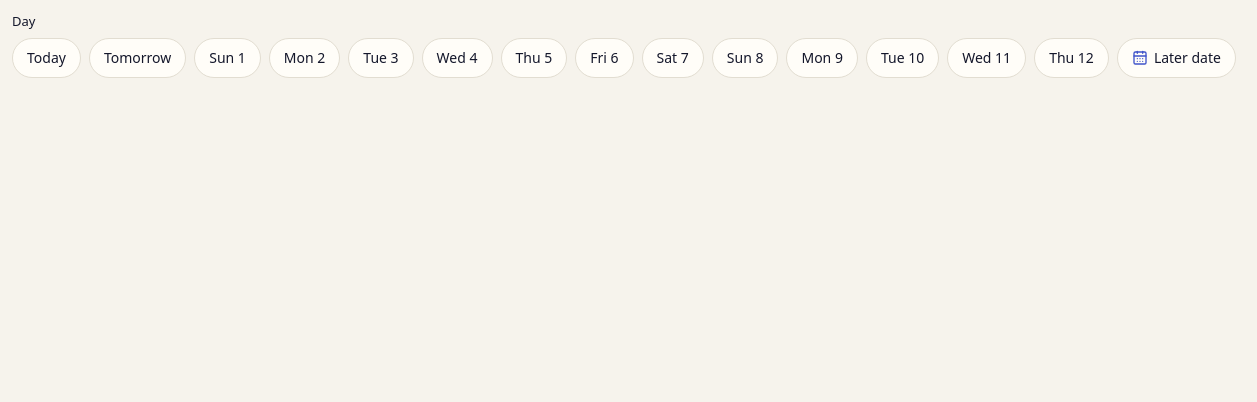
Test case: DayPicker › closes the calendar on Escape without letting the drawer see it
Click the button "Later date". click: (1176, 58)
box: [1117,38,1236,78]
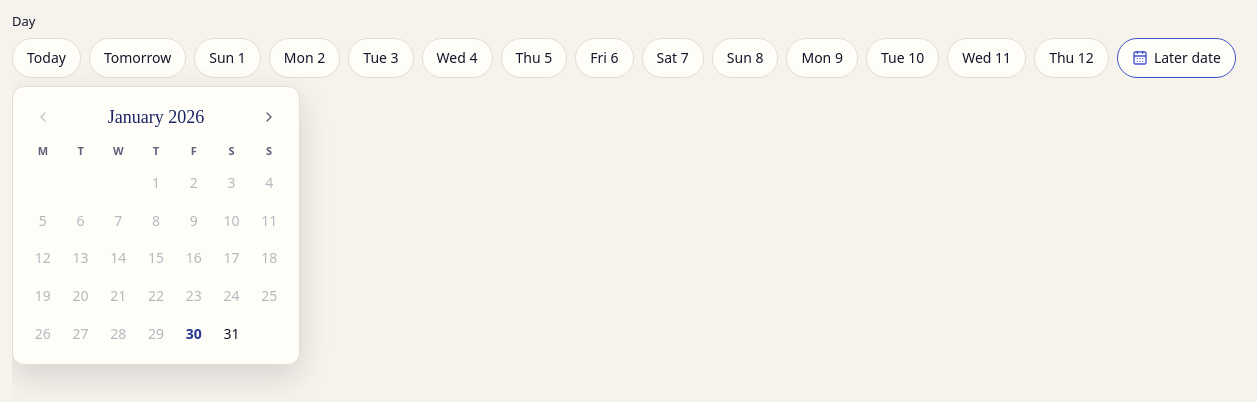
Press Escape in the button named "Next month", box [251,98,287,134]
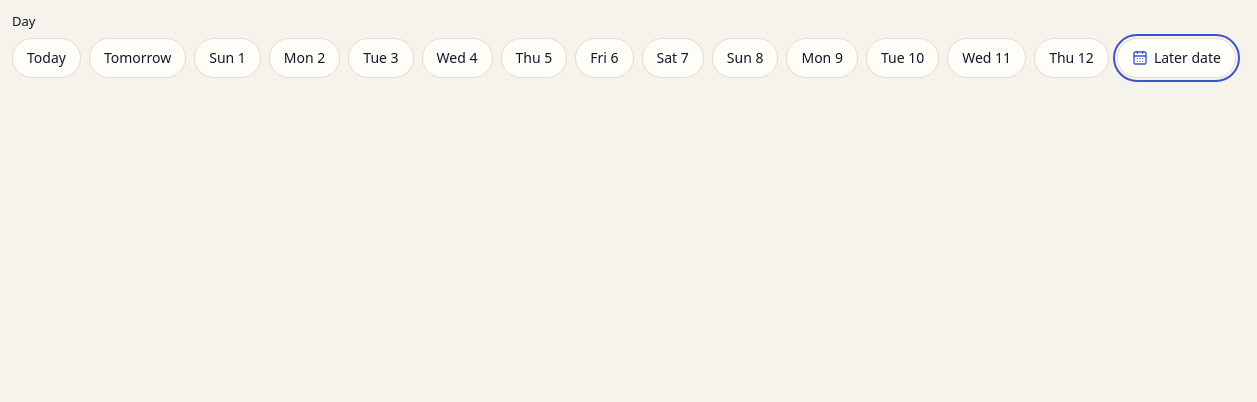
Expected: the text "January 2026" is gone
